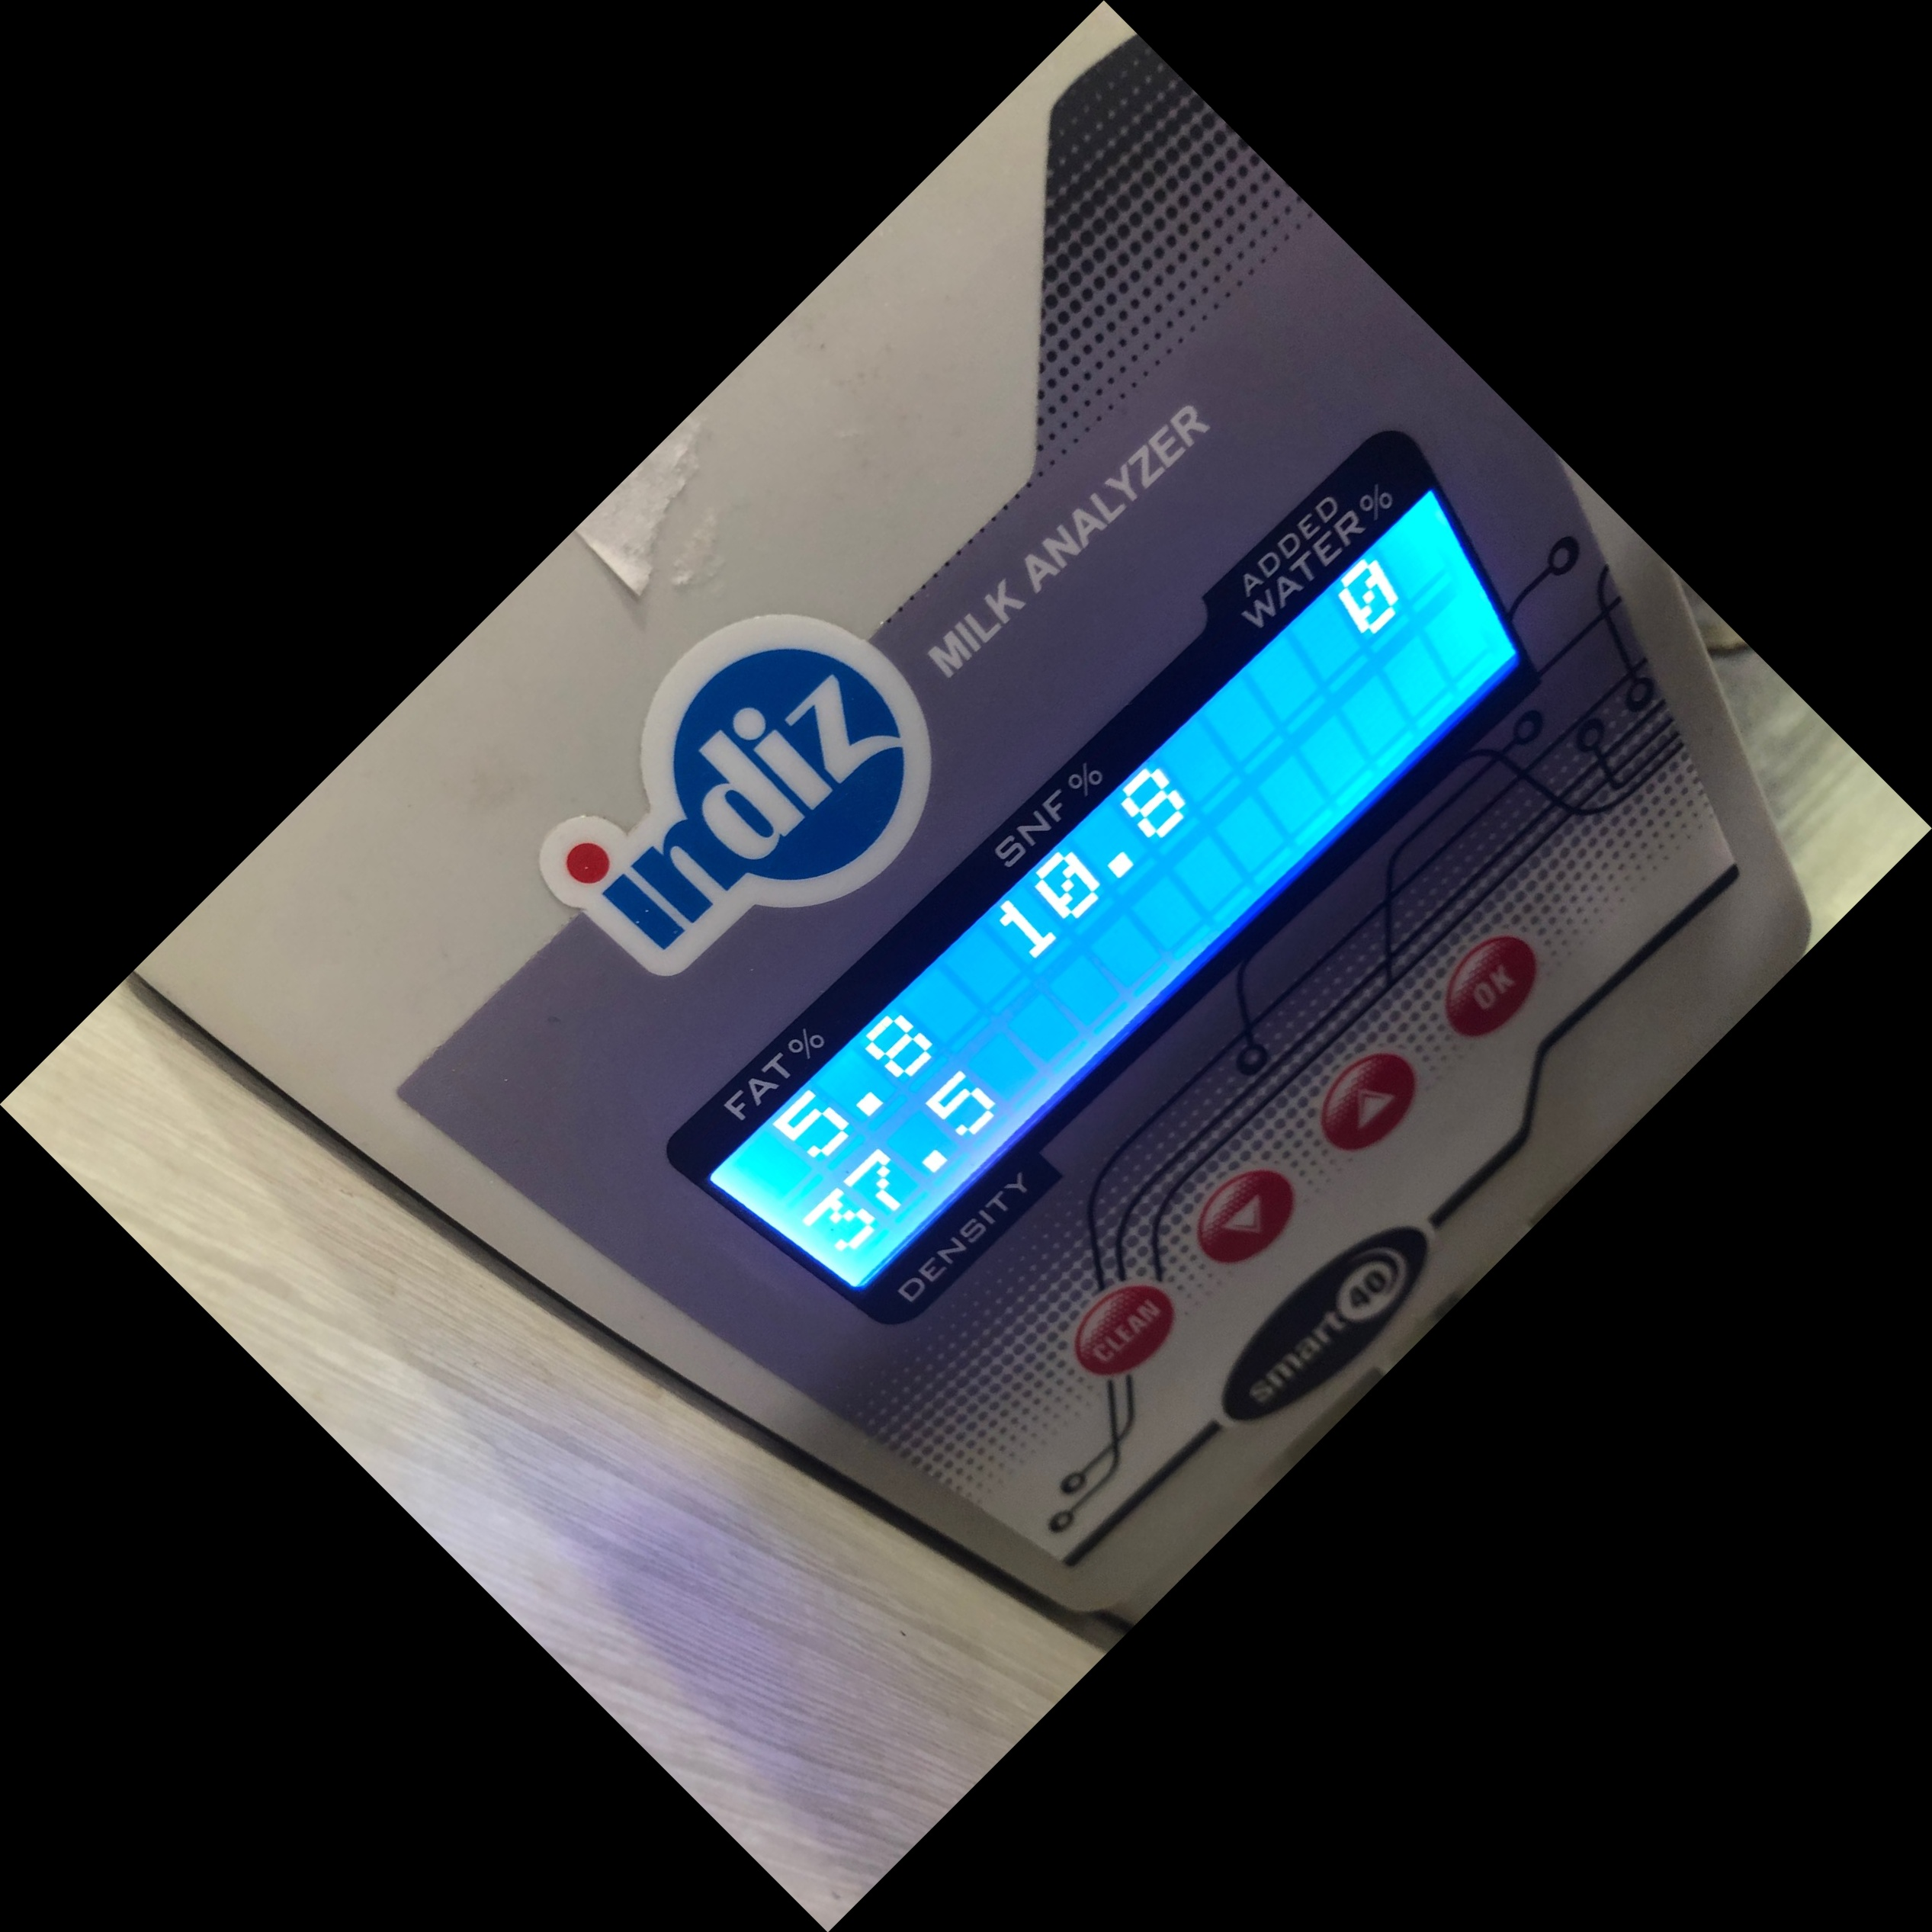lcd: (609, 419, 1541, 1343)
